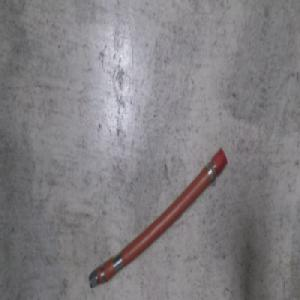Hose: (87, 143, 227, 290)
